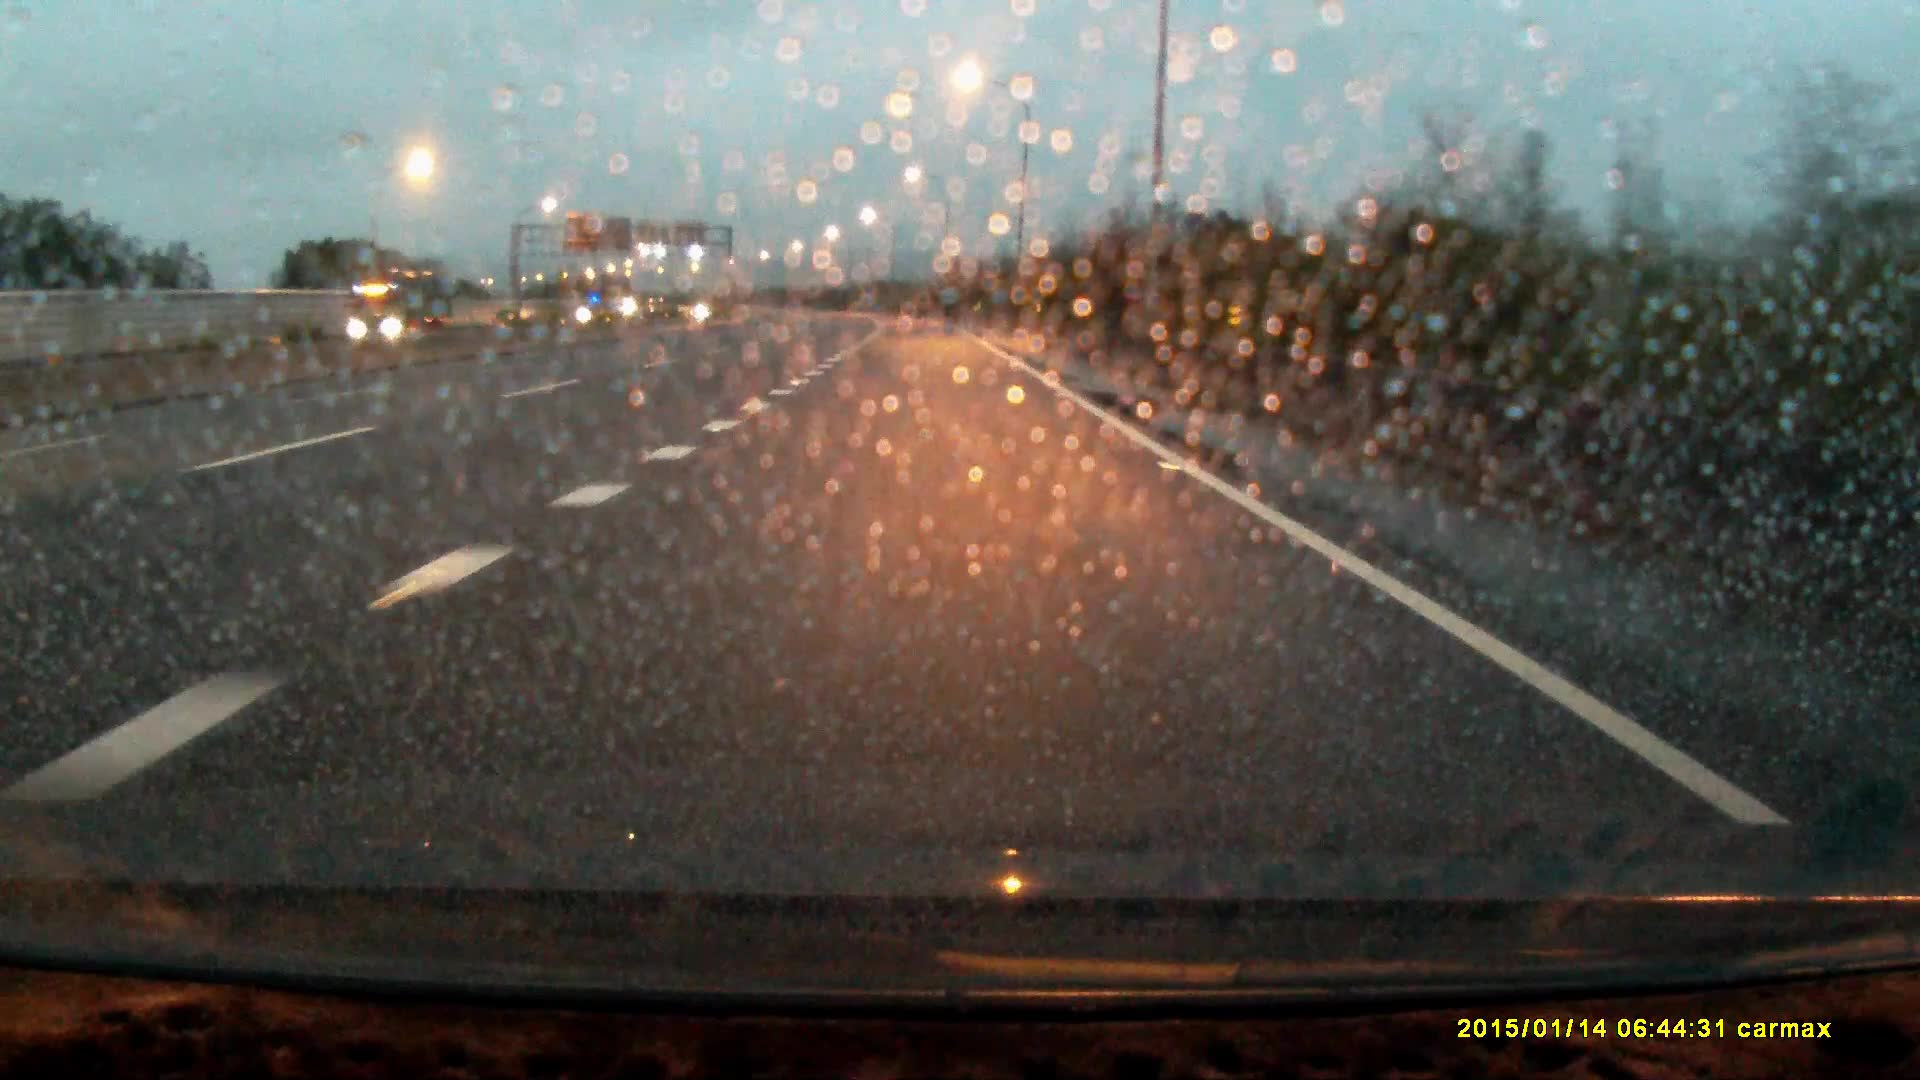vehicle: (345, 282, 429, 345)
